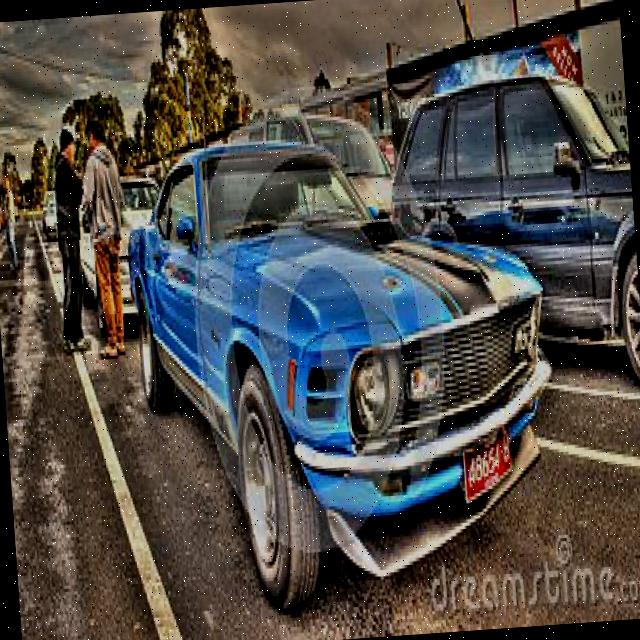Autre: (463, 422, 513, 498)
